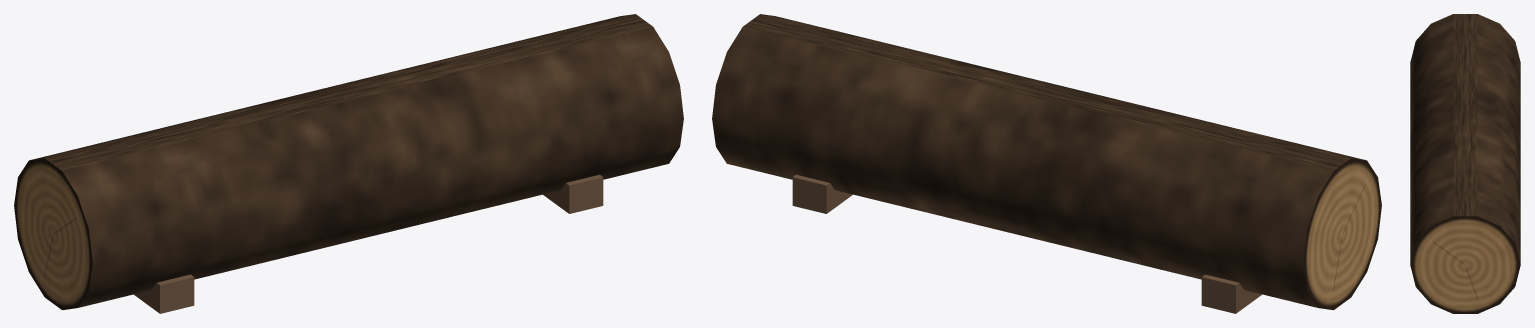
Rendered from LogSeat.gltf.
The picture shows the model from 3 angles, left to right: view 1: azimuth 30°, elevation 25°; view 2: azimuth 150°, elevation 25°; view 3: azimuth 270°, elevation 25°; orthographic projection. The views are drawn at different scales.
Visible parts, largest first — view 1: LogSeat; view 2: LogSeat; view 3: LogSeat.
Part boxes in pixels (bbox=[...]): LogSeat: bbox=[14, 14, 683, 313]; LogSeat: bbox=[712, 14, 1381, 313]; LogSeat: bbox=[1410, 14, 1520, 313].
Bounding box in the file's own units: 2.6 × 0.6025 × 0.6.
3 materials, 2 textured.
